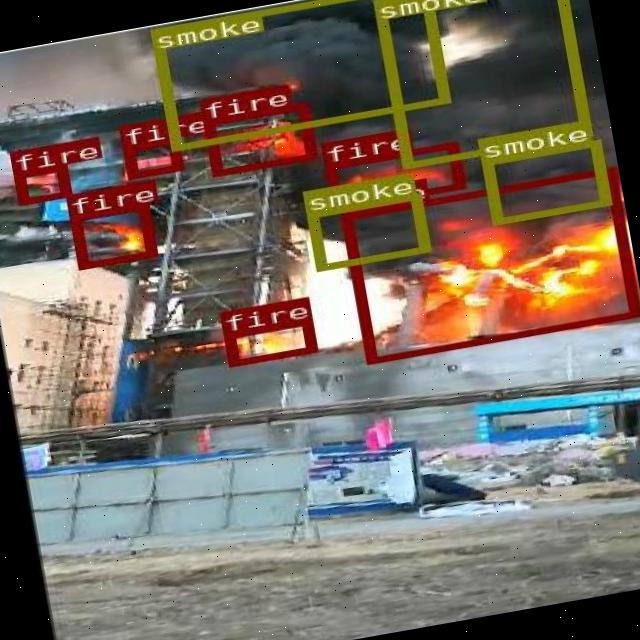fire: (338, 166, 638, 364), (324, 141, 462, 209), (200, 102, 316, 175), (68, 202, 154, 270), (222, 317, 315, 365), (121, 138, 181, 178), (12, 163, 68, 204)
smoke: (150, 0, 449, 150), (371, 0, 589, 168), (480, 139, 610, 225), (302, 191, 428, 270)
